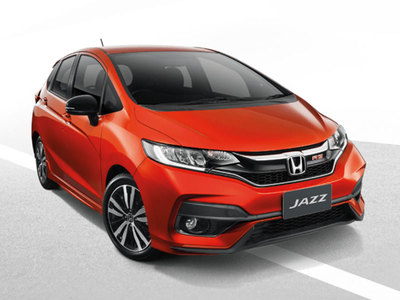sedan: (30, 43, 367, 264)
